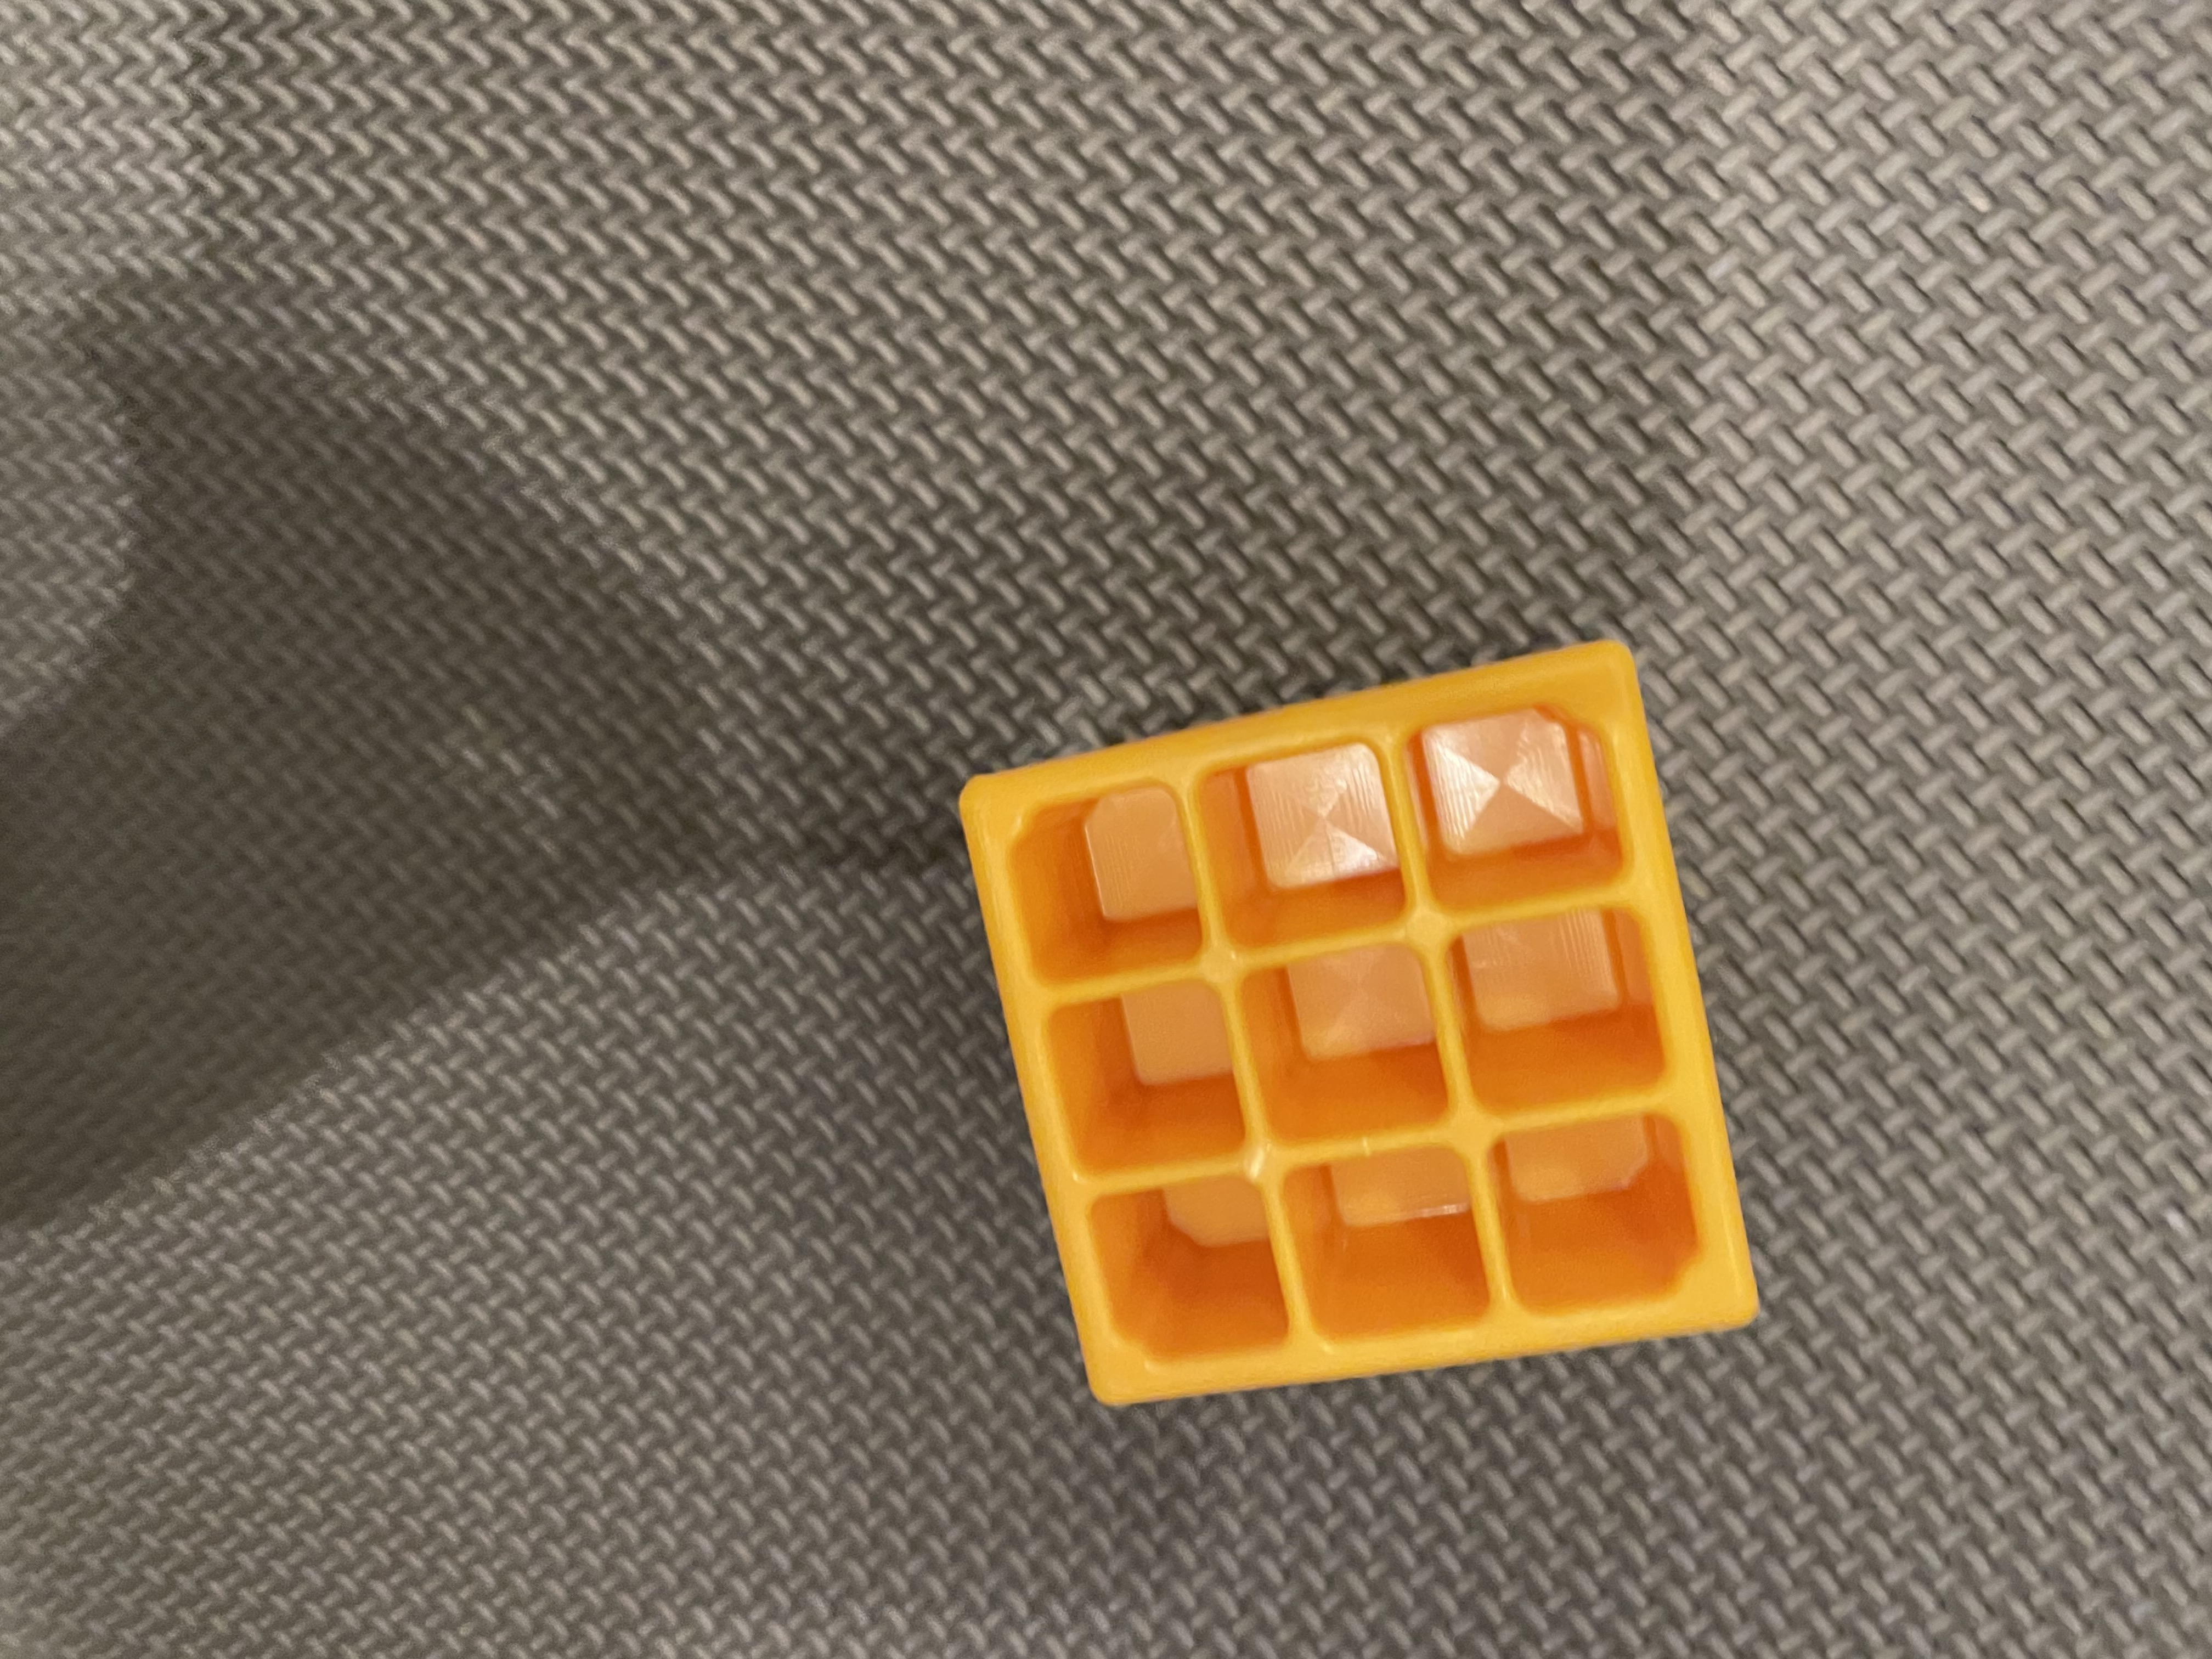cube: (857, 592, 1867, 1425)
